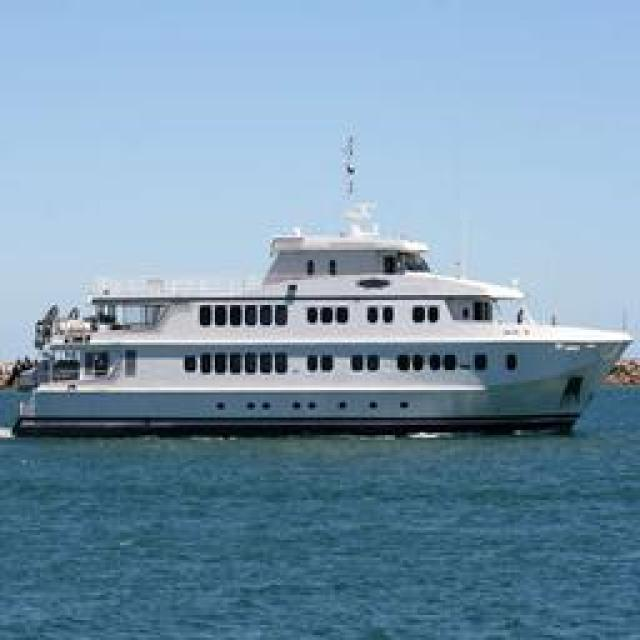ship2: (15, 130, 635, 438)
